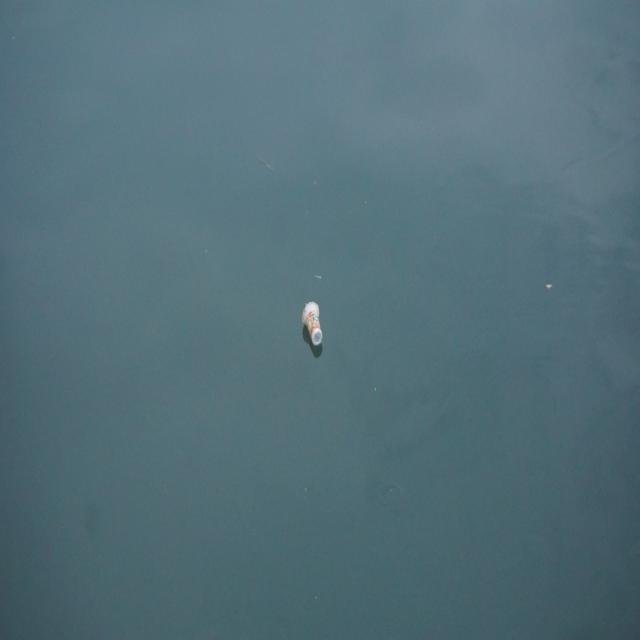Bungkus Minuman: (302, 293, 327, 355)
